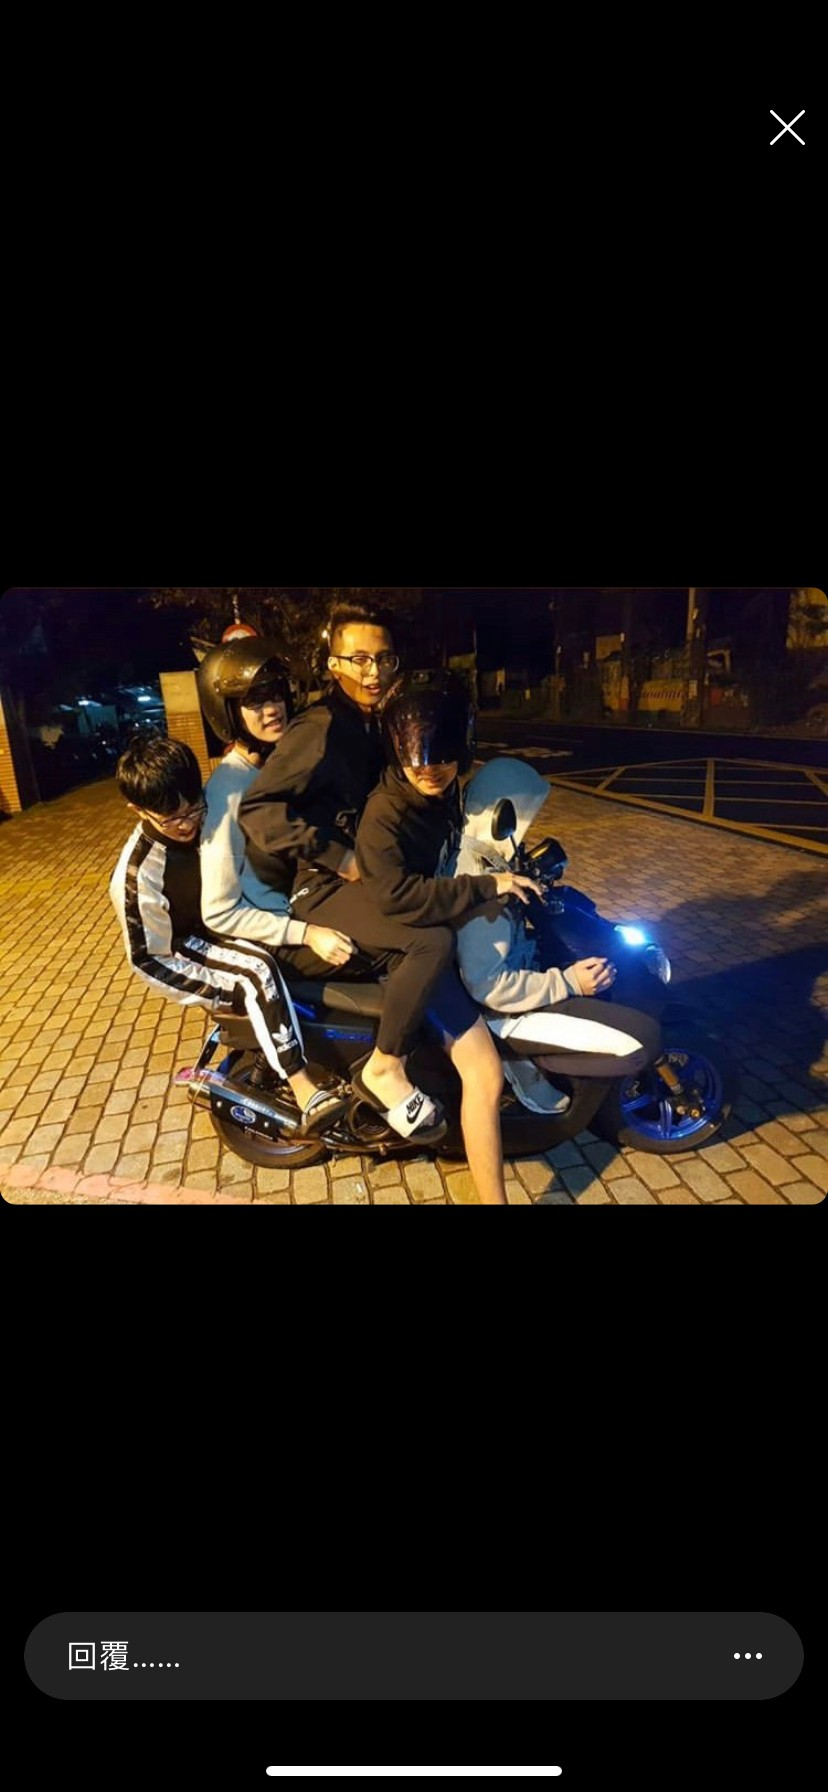people: (458, 754, 644, 1125), (104, 737, 261, 1074), (189, 639, 321, 1037), (378, 694, 458, 1139), (321, 599, 389, 954)
